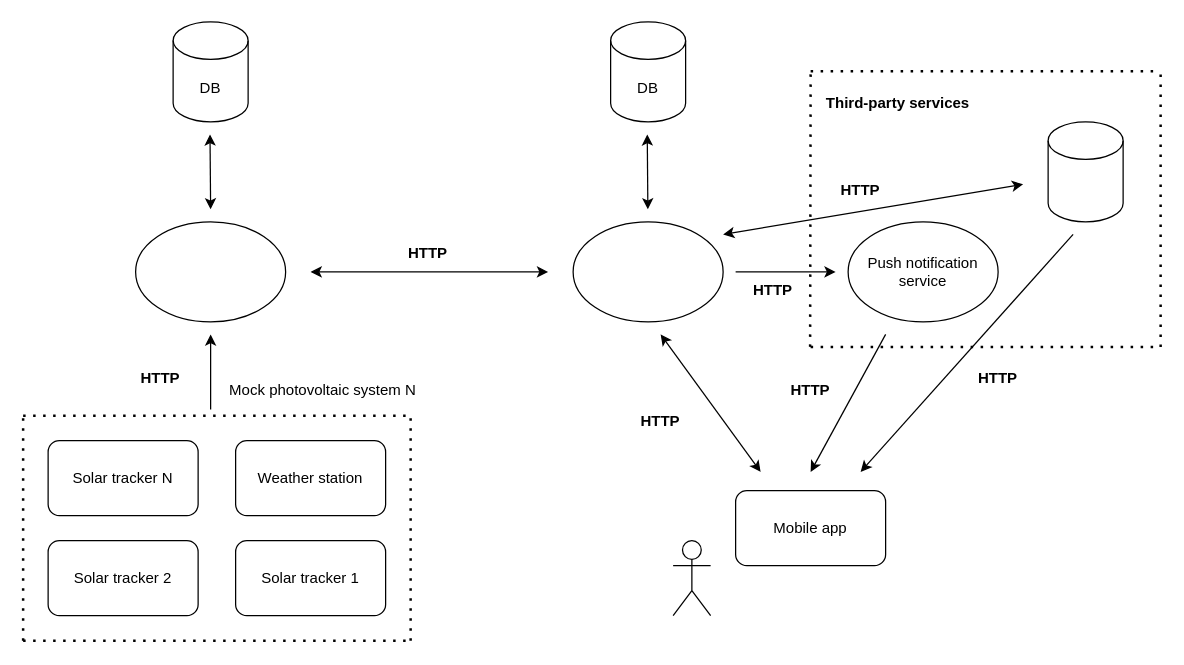
This 1184x665 diagram has some shape labels left out. The centre of each missing label's shape, as x and y in pixels:
"Hardware service (API)" belongs at [210,271].
"Mobile app service (API)" belongs at [647,271].
"Object storage" belongs at [1085,171].
"user" belongs at [691,577].
